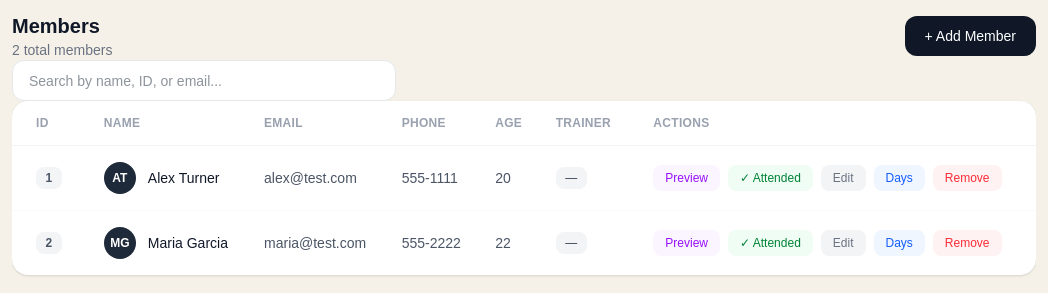
Test: Admin Members Page › filters members by search text
Expected: the text "Alex Turner" is shown, top-left (148, 168), bottom-right (219, 188)
In the field with placeholder "Search by name, ID, or email...": (204, 81) top-left (12, 60), bottom-right (396, 101), type "Maria"
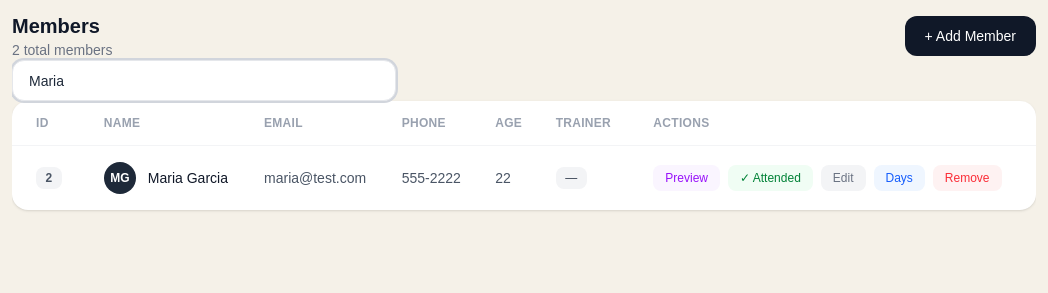
Expected: the text "Maria Garcia" is shown, top-left (148, 168), bottom-right (228, 188)
Result: the text "Alex Turner" is gone
